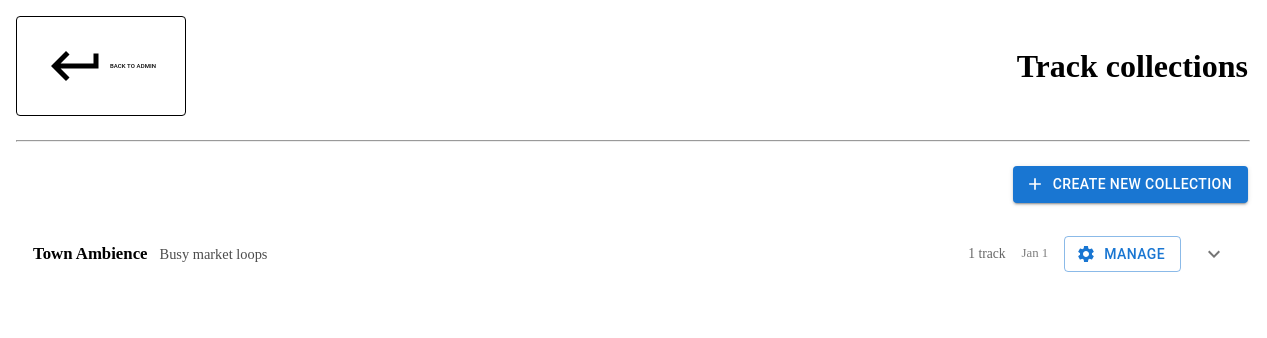
Test case: TrackCollectionsComponent — management mode › expands to show track names when the expand button is clicked
The image size is (1267, 338).
Check: the text "Town Ambience" is shown, box [33, 244, 148, 263]
Click the button named "Expand tracks" at (1214, 254), box [1197, 237, 1231, 271]
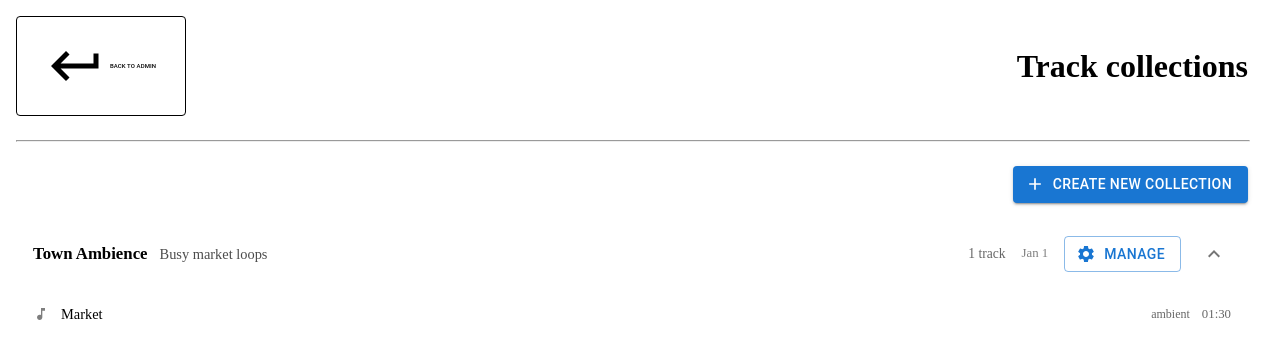
Check: the text "Market" is shown, box [61, 306, 103, 322]
Check: the text "ambient" is shown, box [1151, 307, 1190, 322]
Check: the text "01:30" is shown, box [1202, 307, 1231, 322]
